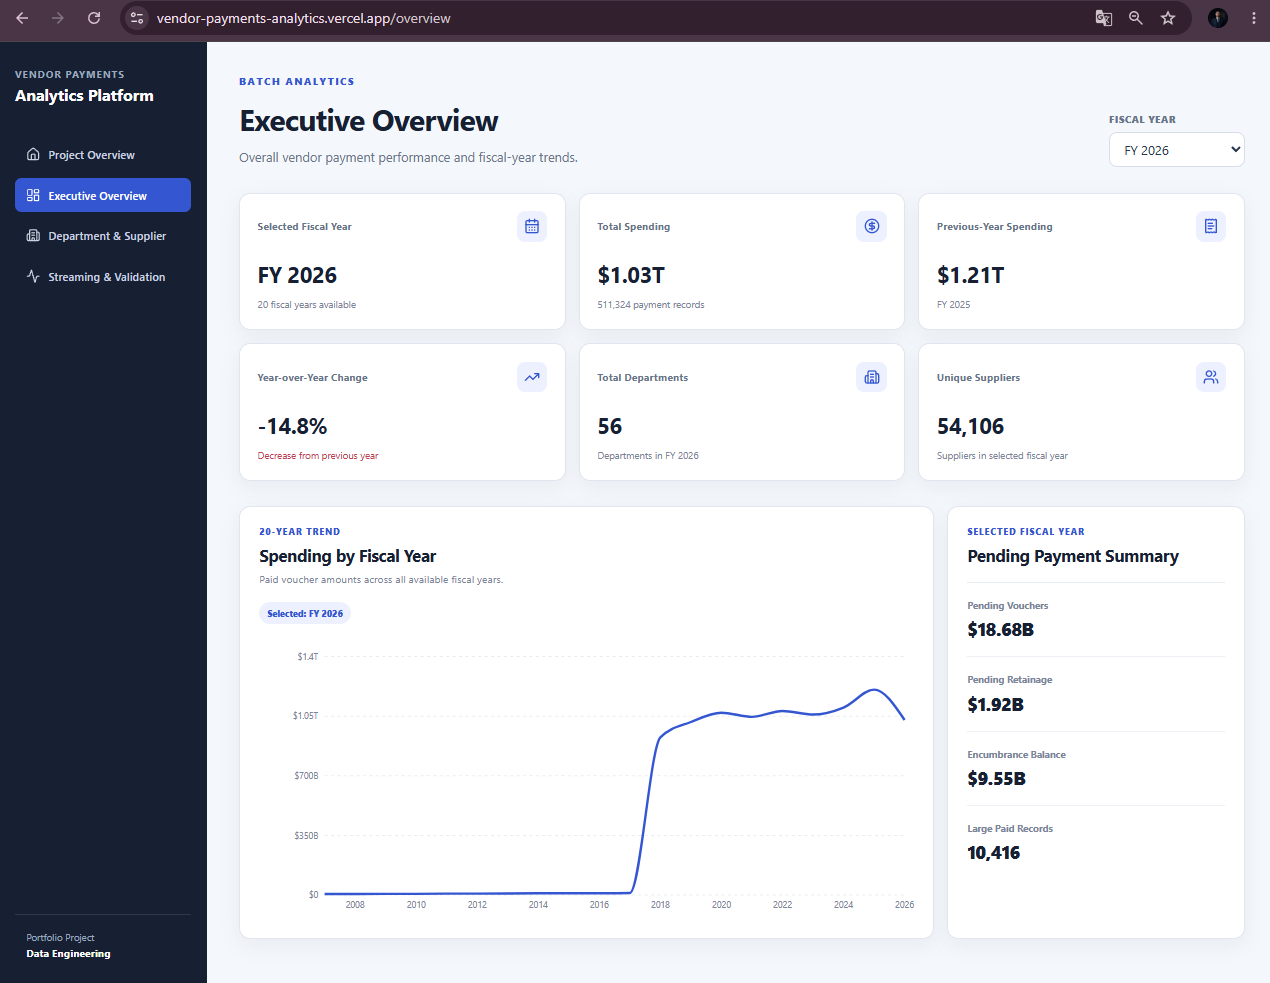

This screenshot's page, from the dashboard's own definition file:
{"tool":"powerbi","page":{"name":"Executive Overview","canvas":[1280,720],"ordinal":0},"visuals":[{"type":"cardVisual","title":"Total Sale","fields":{"Data":["_measures.Previous-Year Spending"]},"box":[257.9,77.9,250,121.5],"z":0},{"type":"cardVisual","title":"Total Sale","fields":{"Data":["_measures.Year-over-Year Change %"]},"box":[515,77.9,250,121.5],"z":1000},{"type":"cardVisual","title":"Total Sale","fields":{"Data":["_measures.Total Departments"]},"box":[772.1,77.9,250,121.5],"z":2000},{"type":"cardVisual","title":"Total Sale","fields":{"Data":["_measures.Total Suppliers"]},"box":[1029.3,77.9,250.7,121.5],"z":3000},{"type":"cardVisual","title":"Total Sale","fields":{"Data":["_measures.Total Spending"]},"box":[0,77.9,250.7,121.5],"z":4000},{"type":"lineChart","title":"Spending Trend by Fiscal Year","fields":{"Y":["Sum(batch_spending_by_fiscal_year.total_vouchers_paid)"],"Category":["dim_fiscal_year.fiscal_year"]},"box":[0,199.3,1280,520.1],"z":5000},{"type":"slicer","fields":{"Values":["dim_fiscal_year.fiscal_year"]},"box":[987.6,0,292.8,78.4],"z":6000},{"type":"cardVisual","fields":{"Data":["_measures.Selected Year"]},"box":[0,0,977.3,78.4],"z":7000}]}

Visuals, with their boxes on the page's 1280x720 design canvas (x1, y1, x2, y2). These are canvas units, not pixel positions in the 1270x983 screenshot, which may show the page scaled, cropped or inside an application window:
"Total Sale" cardVisual: (258,78,508,199)
"Total Sale" cardVisual: (515,78,765,199)
"Total Sale" cardVisual: (772,78,1022,199)
"Total Sale" cardVisual: (1029,78,1280,199)
"Total Sale" cardVisual: (0,78,251,199)
"Spending Trend by Fiscal Year" lineChart: (0,199,1280,719)
slicer - dim_fiscal_year.fiscal_year: (988,0,1280,78)
cardVisual - _measures.Selected Year: (0,0,977,78)
